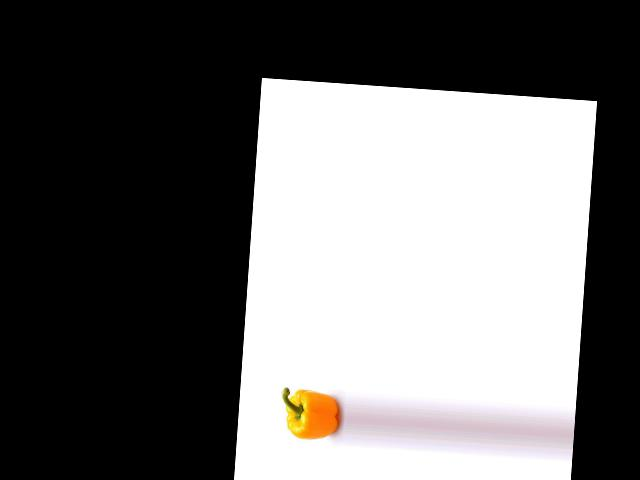bell_pepper: (281, 385, 341, 445)
